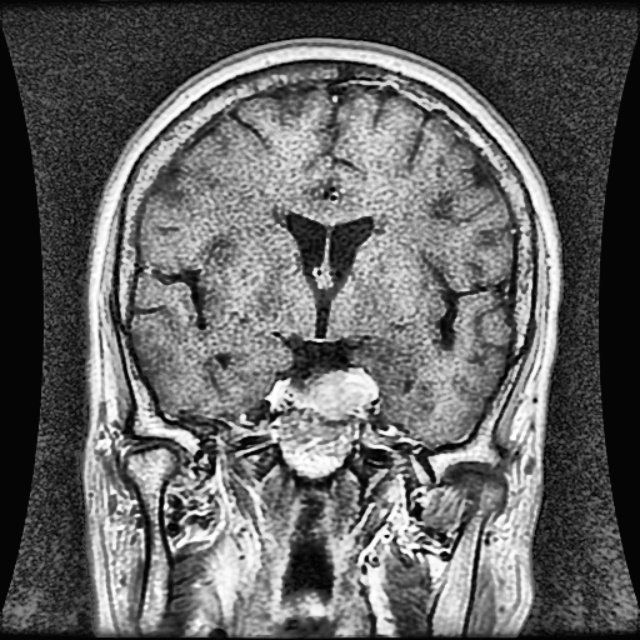Pituitary: (268, 368, 373, 415)
